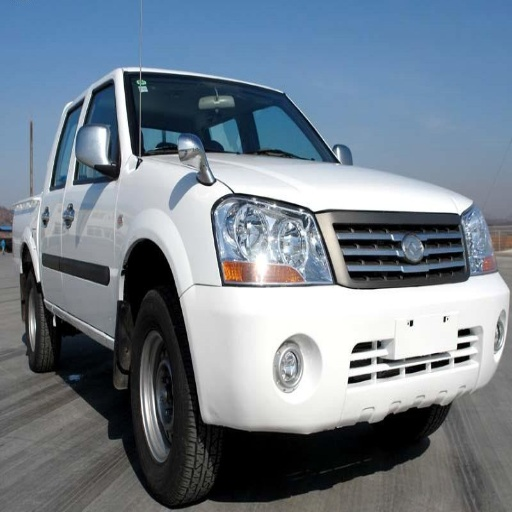back_left_light: (41, 82, 104, 307)
back_right_light: (181, 236, 509, 434), (317, 212, 461, 265)
front_bumper: (135, 74, 354, 161)
front_left_door: (463, 208, 496, 275)
front_left_light: (60, 78, 126, 333)
front_right_door: (211, 194, 330, 283)
front_right_light: (210, 154, 474, 226), (334, 232, 459, 288)
trunk: (120, 287, 246, 506), (25, 290, 56, 370)
